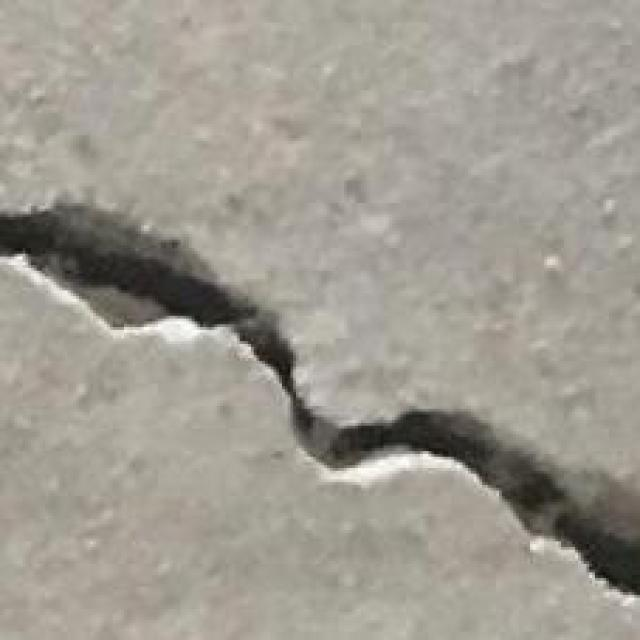diagonal crack: (0, 211, 639, 594)
